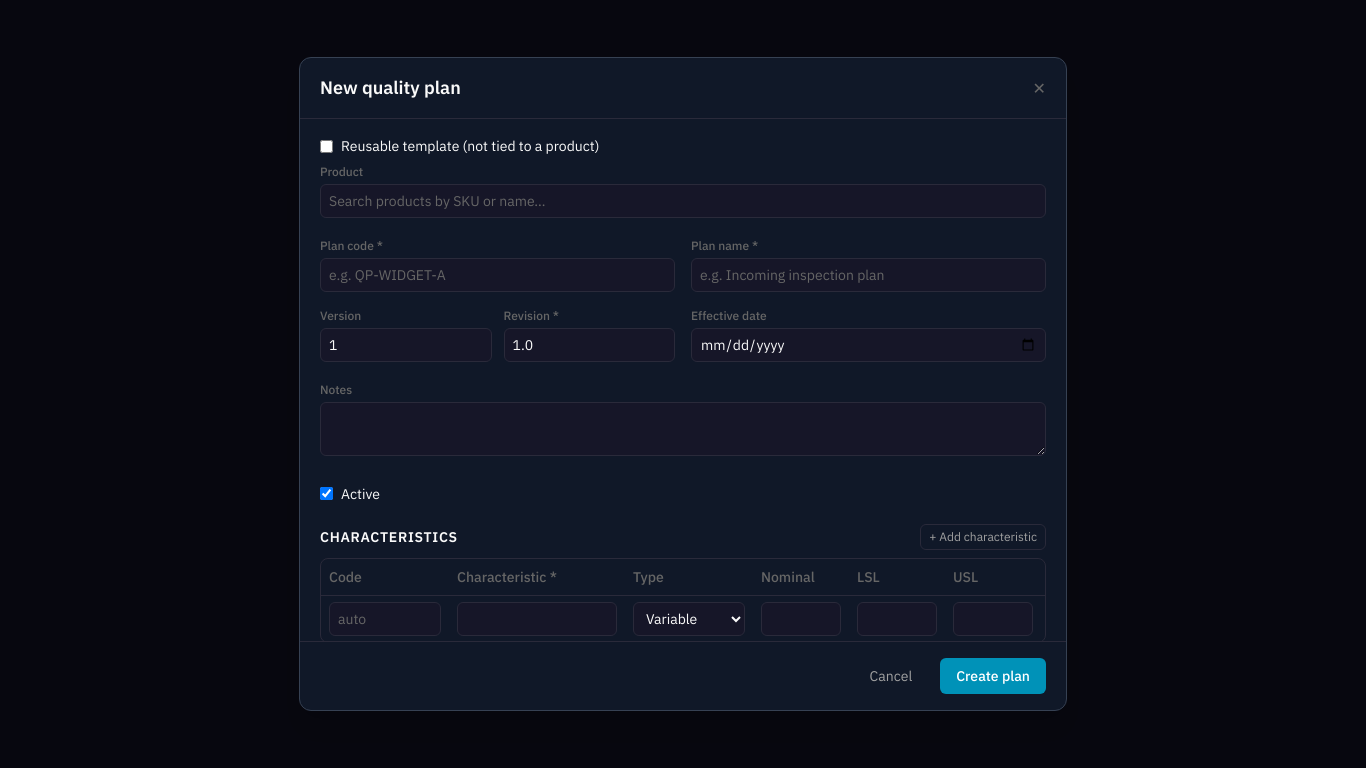
Test: QualityPlanEditor › rejects an empty version instead of silently coercing it to 1
This screenshot has width=1366, height=768.
Click the checkbox labelled "Reusable template (not tied to a product)" at (326, 146), box [320,140,333,153]
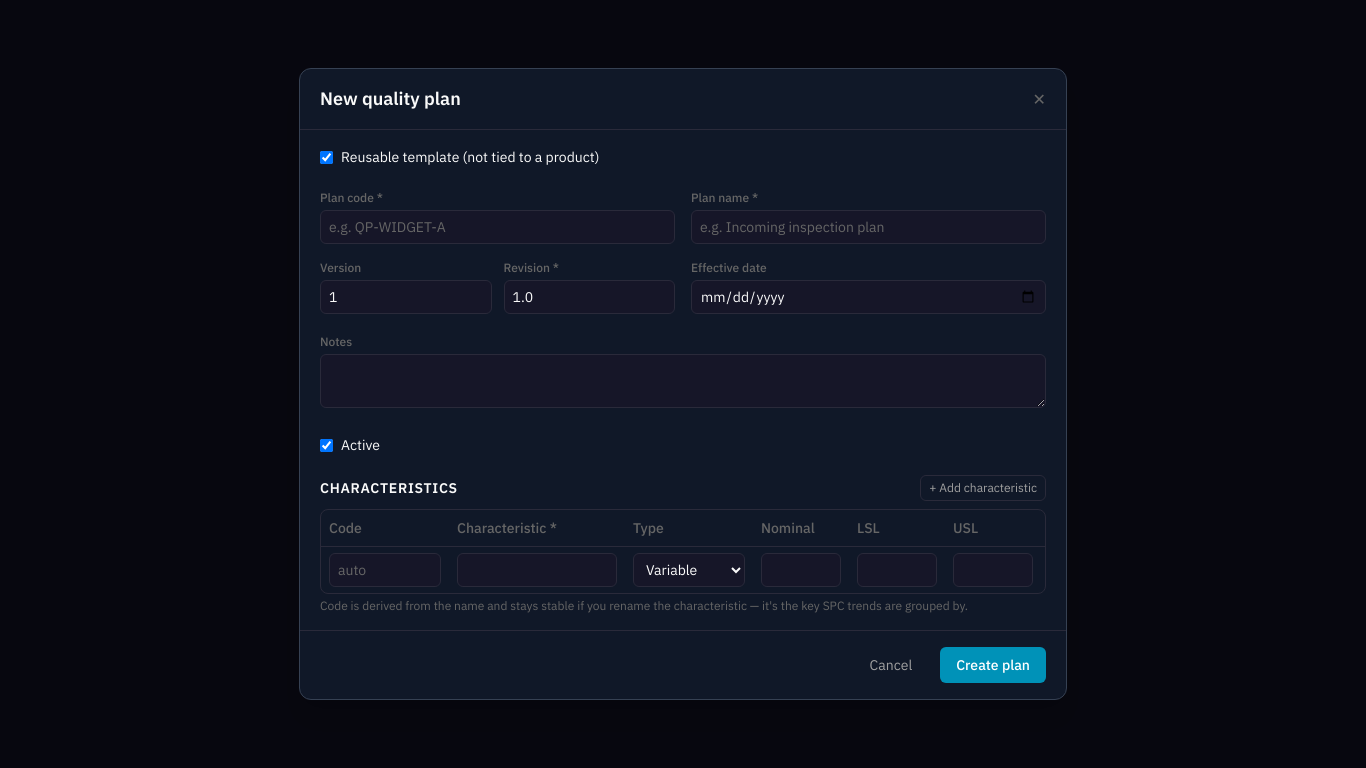
Type "QP-V" into the field labelled "Plan code *" at (498, 227), box [320,210,675,244]
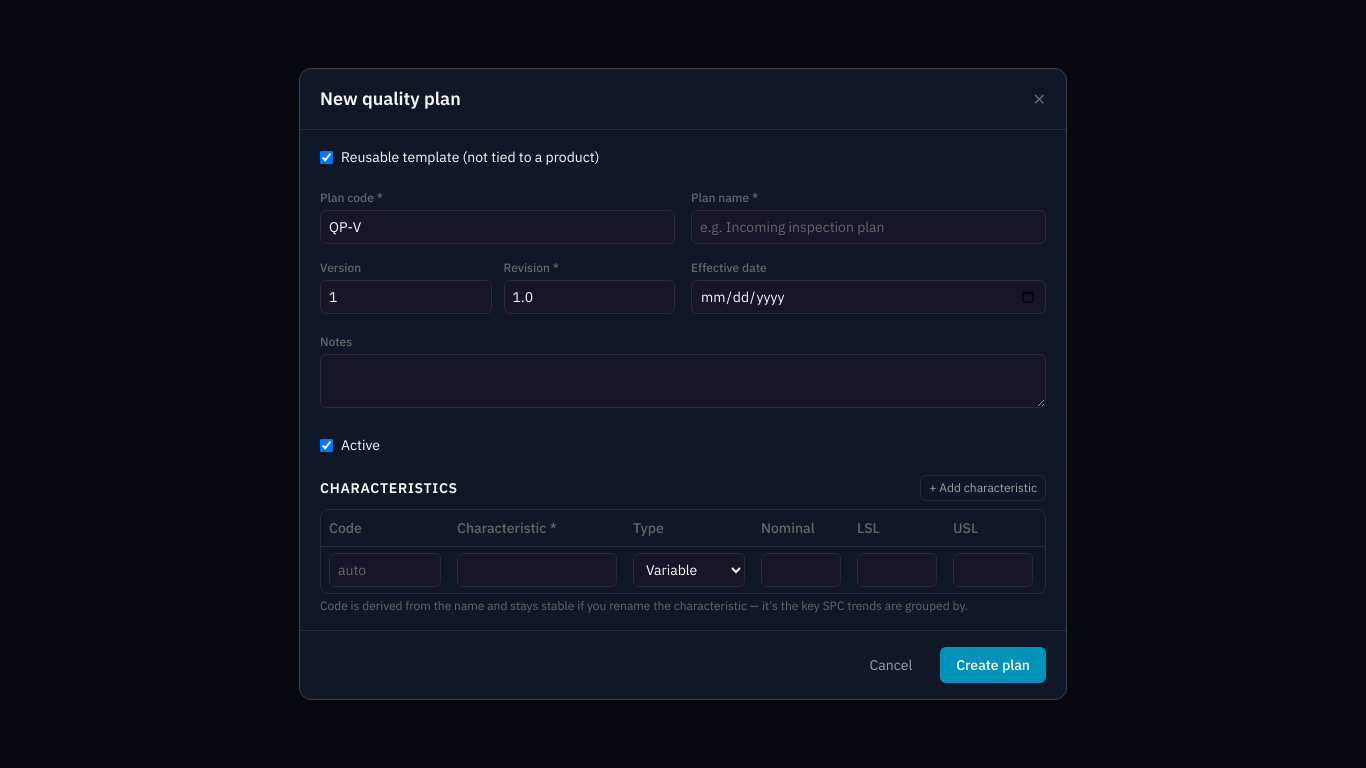
Type "V" into the field labelled "Plan name *" at (868, 227), box [691,210,1046,244]
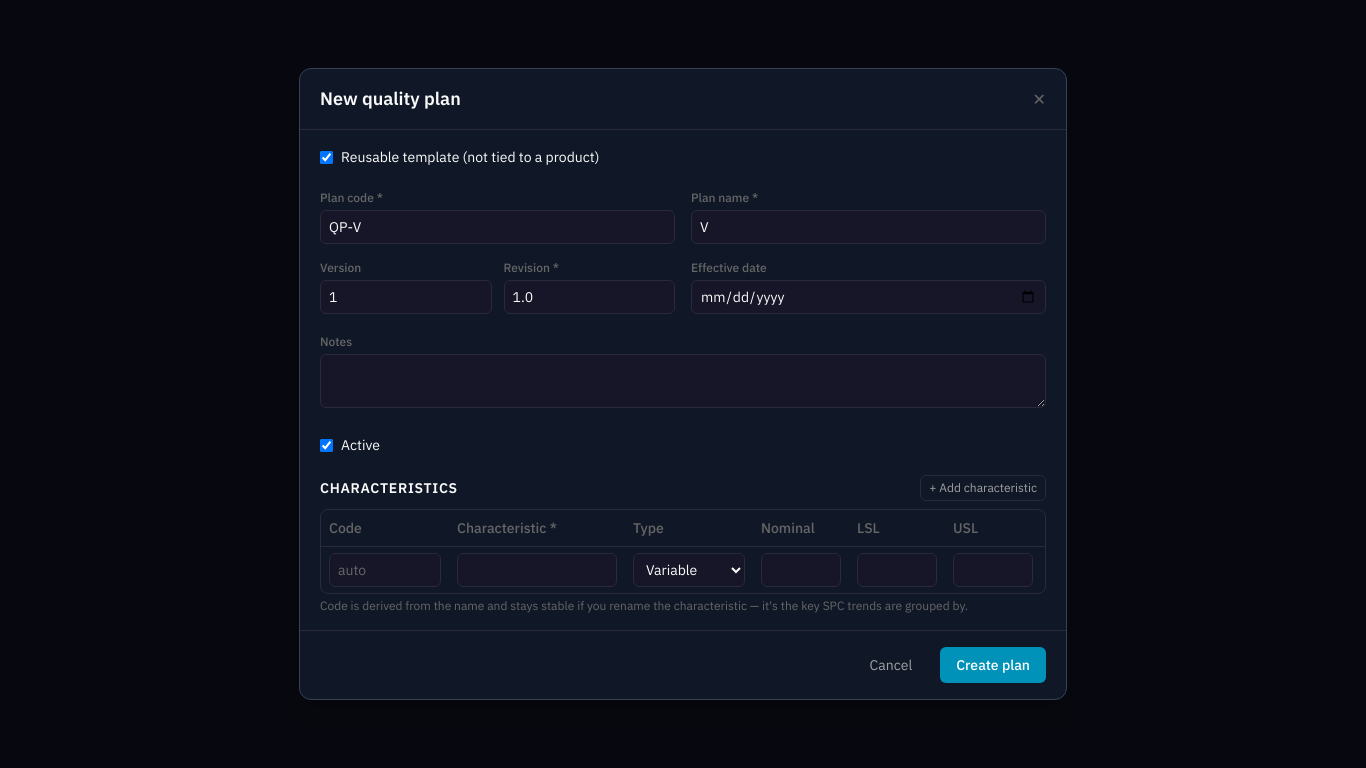
Type "x" into the field named "Characteristic name" at (537, 570), box [457,553,617,587]
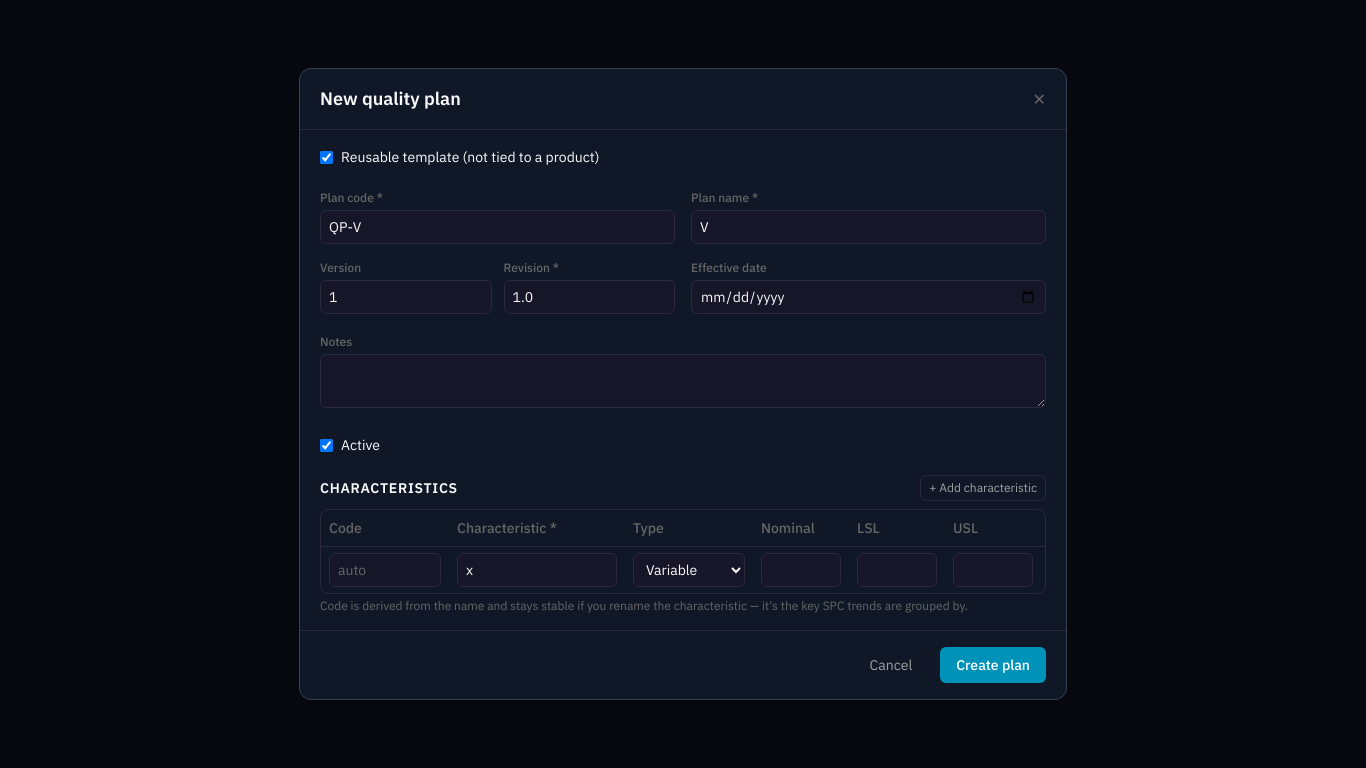
Clear the number field labelled "Version" at (406, 297), box [320,280,492,314]
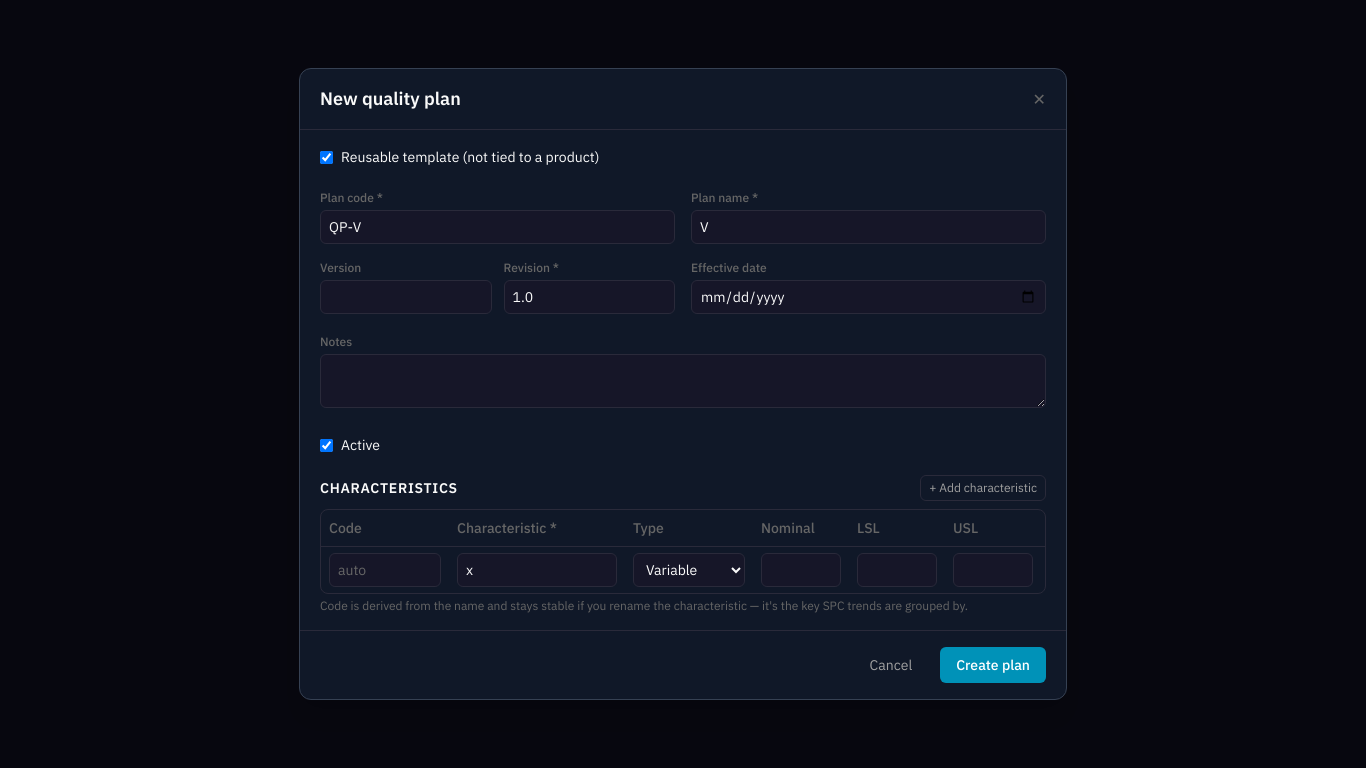
Click the button "Create plan" at (993, 665), box [940,647,1046,683]
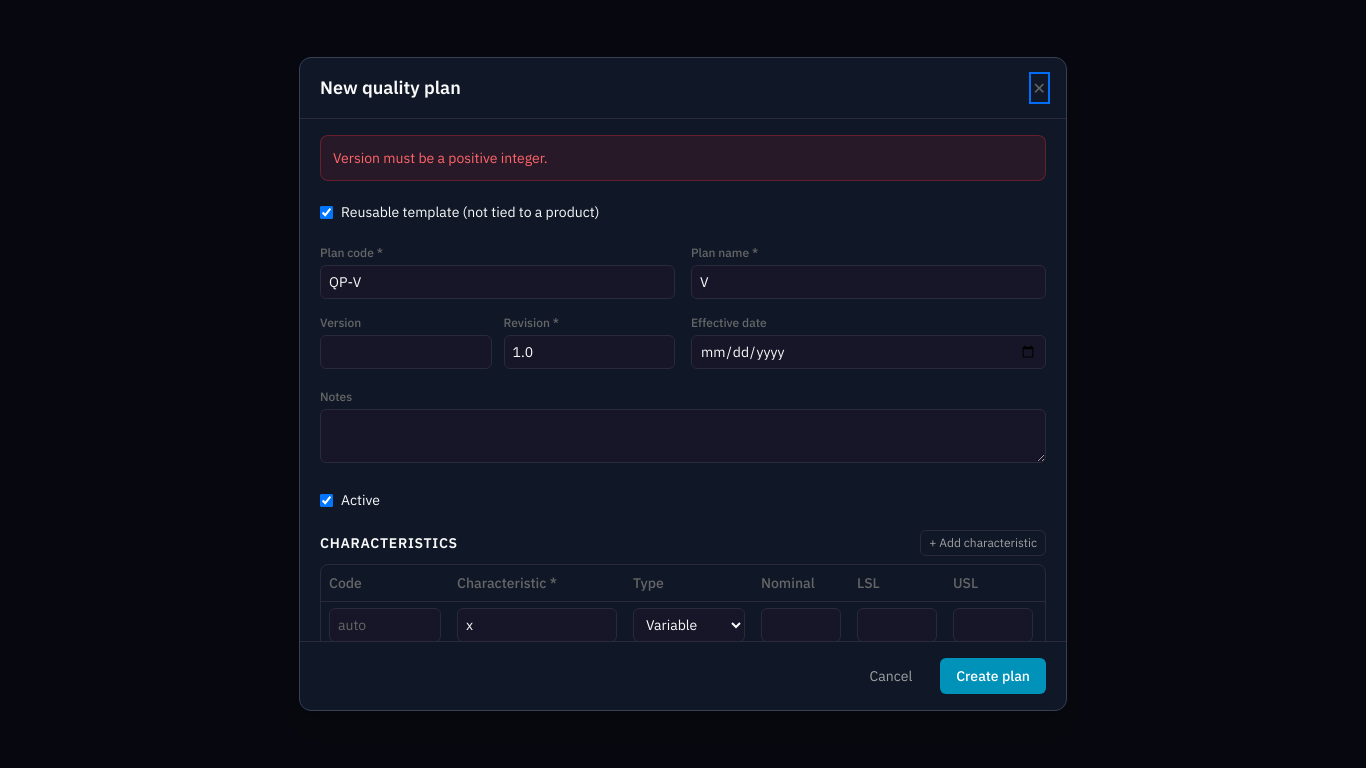
Check: the text "Version must be a positive integer." is shown, box [320,135,1046,181]
